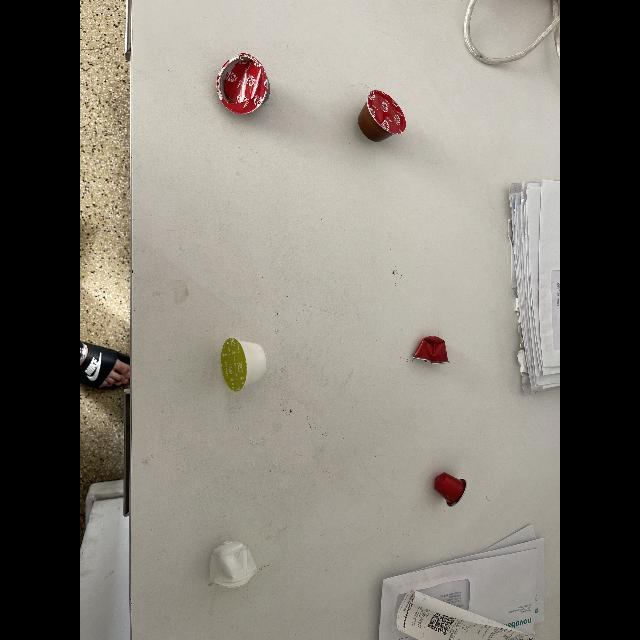damaged_capsule: (210, 51, 274, 121), (200, 534, 266, 592), (352, 85, 412, 148), (214, 337, 274, 393), (409, 334, 453, 368)
intact_capsule: (428, 466, 482, 514)
